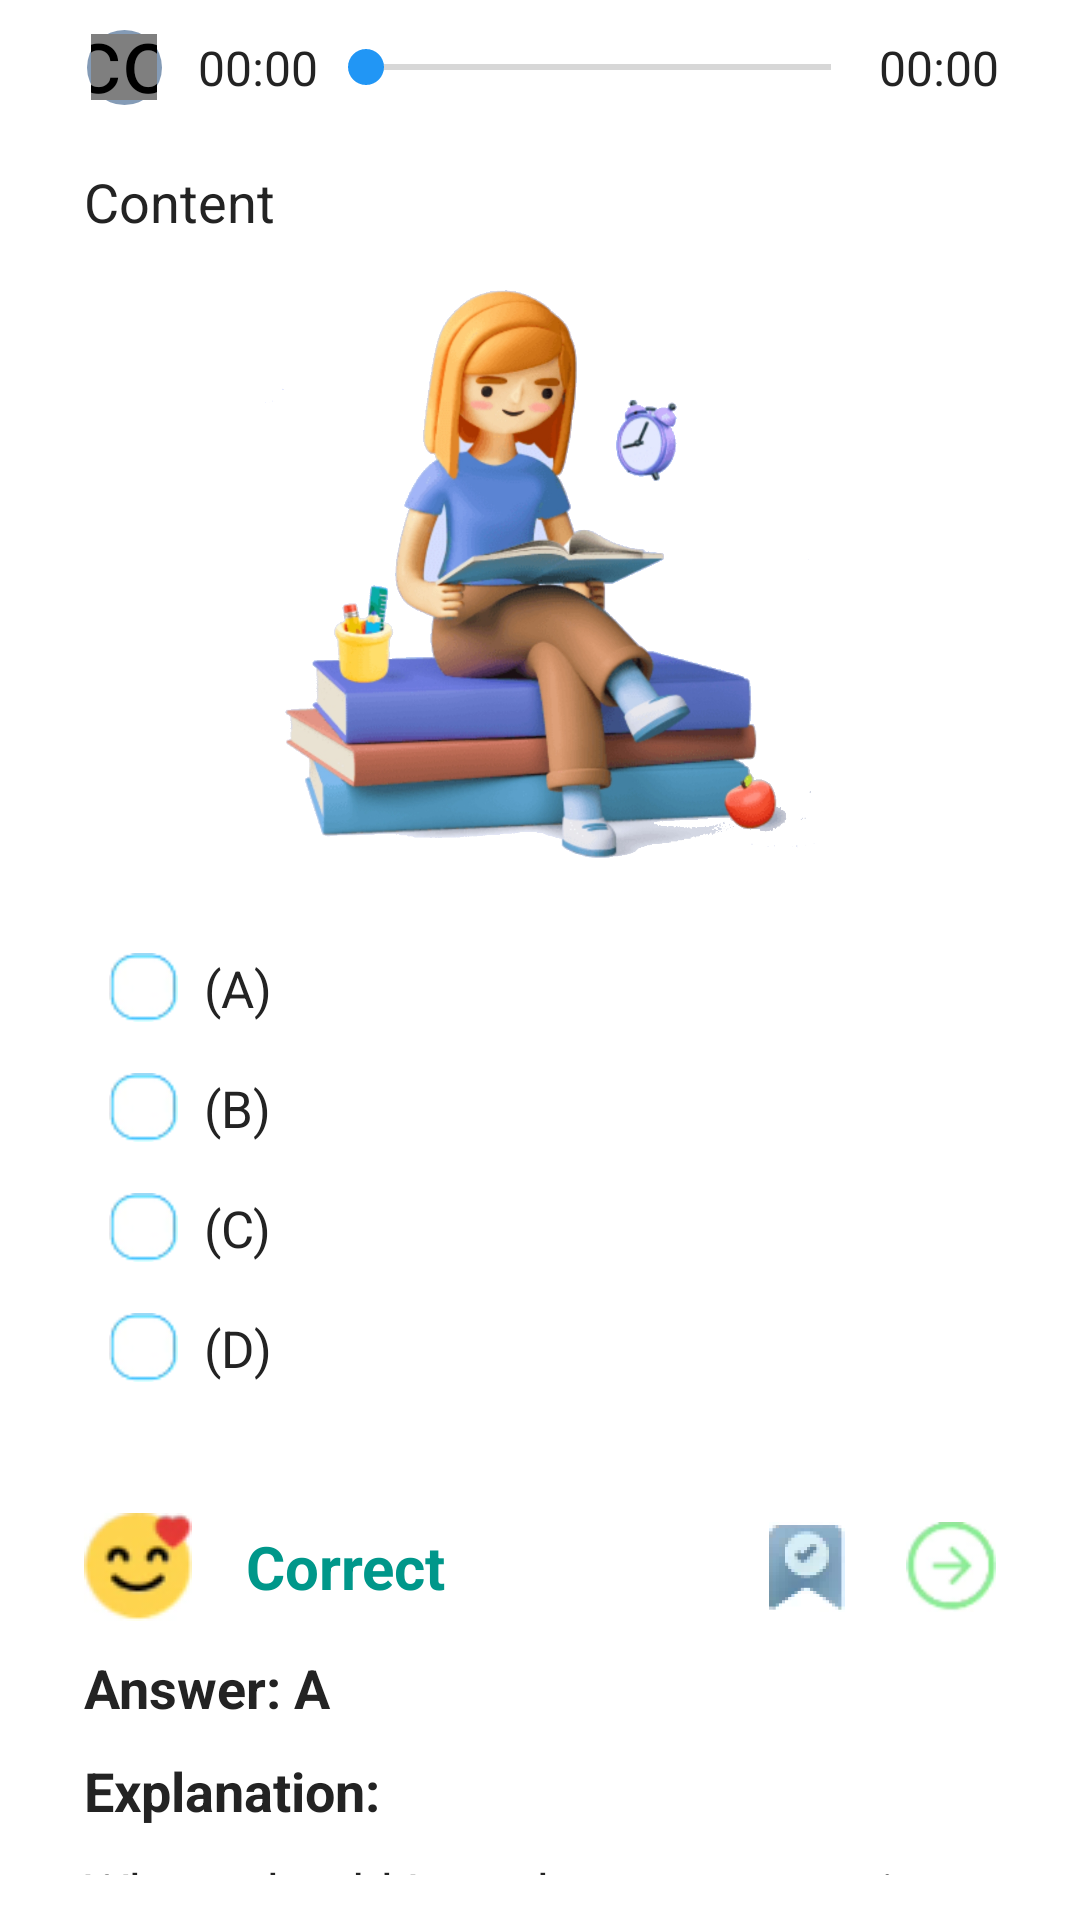

Locate icon controls on the screen. Image size 1080w x 1920h, boxes as {"x1": x1, "y1": y1, "x2": x2, "y2": y2}.
continue: {"x1": 906, "y1": 1522, "x2": 996, "y2": 1610}
mark: {"x1": 769, "y1": 1525, "x2": 845, "y2": 1610}
